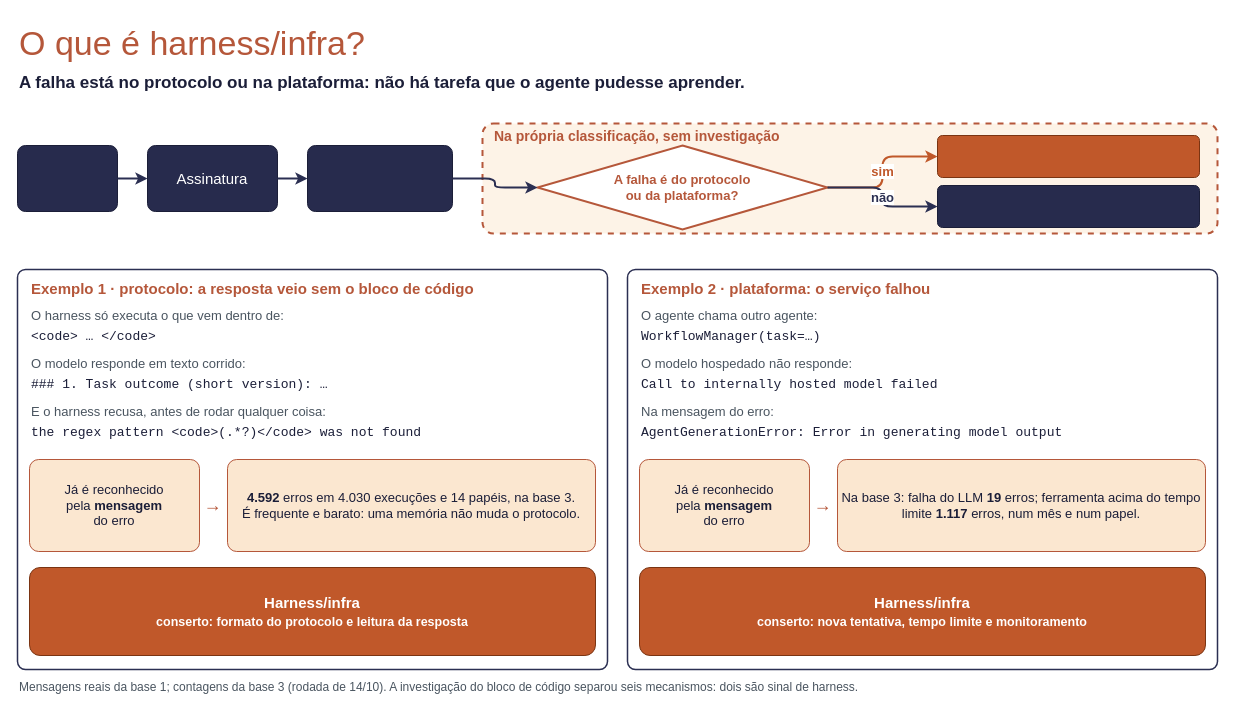
The diagram is 1236 pixels wide and 716 high, and some of its shapes have lost their labels. The shapes that lost their labels are listed below. From the top down, each one's centre as x and y in pixels, then its label:
(1068,156): Destino: harness/infra
(67,178): Erro
(379,178): Causa
(1068,206): Segue para a triagem
